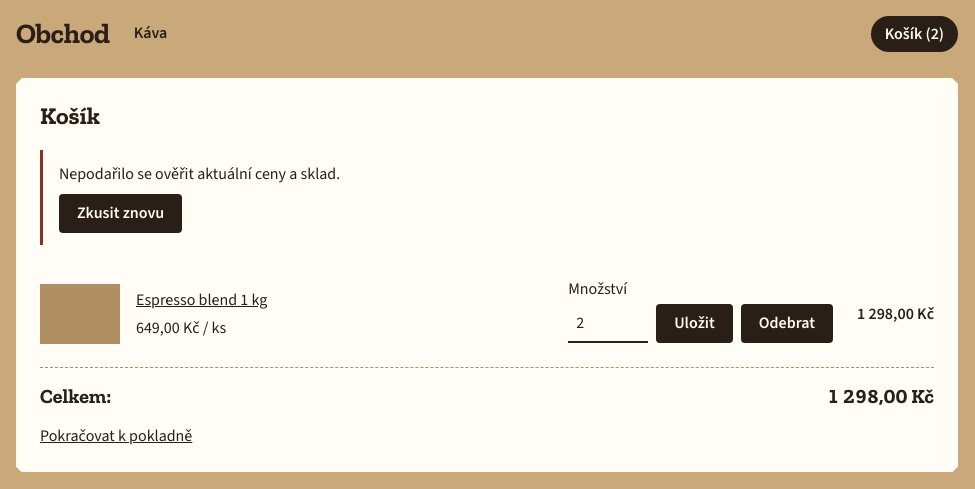
Test: keeps the cart usable when the check fails
The image size is (975, 489).
Expected: the text "Nepodařilo se ověřit aktuální ceny a sklad." is shown, [59,162,340,184]
Expected: the link "Espresso blend 1 kg" is shown, [136,289,267,311]
What coordinates should you click on to do the following:
click the button "Zkusit znovu"
I would click on:
 (121, 213)
Its box is [59,194,182,233].
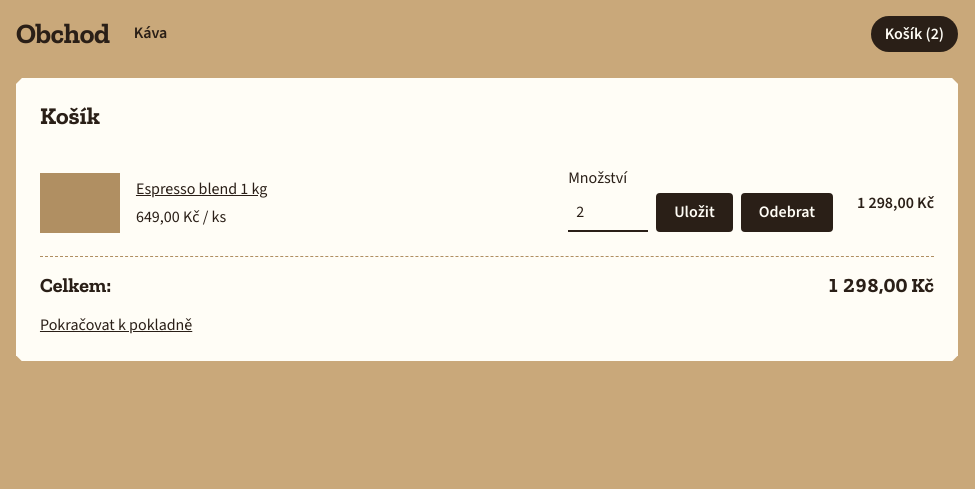
Expected: the text "Nepodařilo se ověřit aktuální ceny a sklad." is gone
